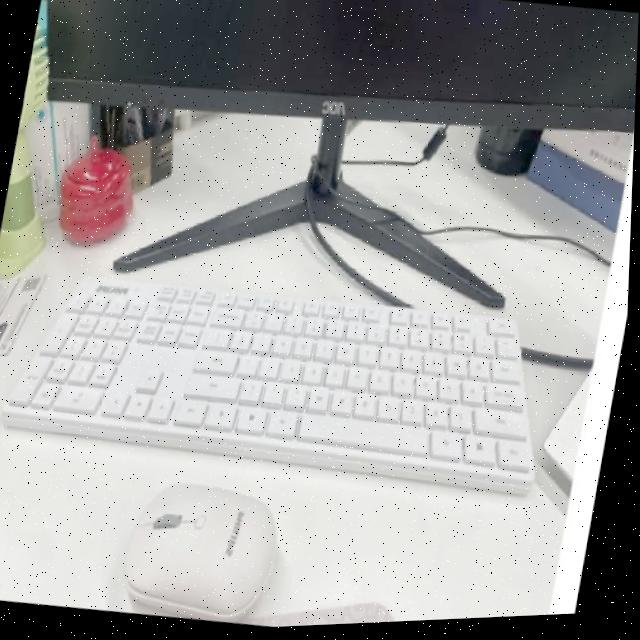klavye: (0, 248, 568, 522)
